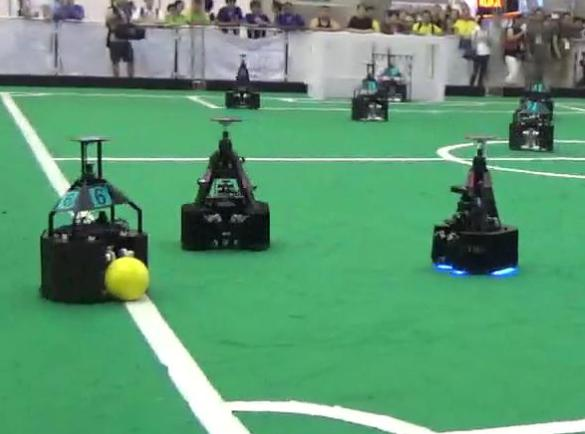robot: (37, 133, 152, 305), (427, 127, 524, 274), (179, 112, 273, 253)
